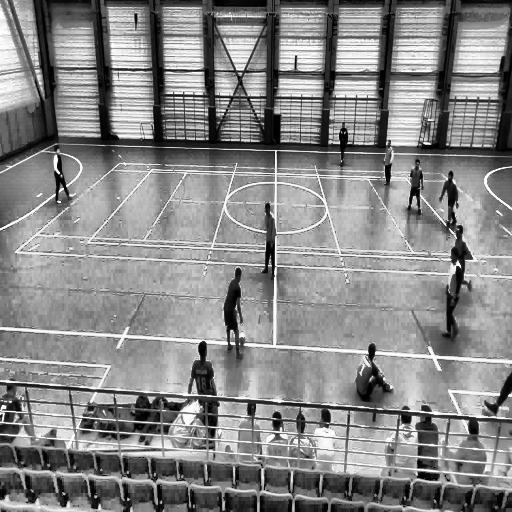ball: (238, 330, 246, 347)
player: (443, 246, 464, 340), (224, 267, 244, 358), (454, 224, 474, 300), (260, 202, 277, 280), (52, 144, 74, 203), (439, 170, 458, 228), (406, 156, 424, 214), (382, 138, 393, 186), (337, 123, 349, 166)
